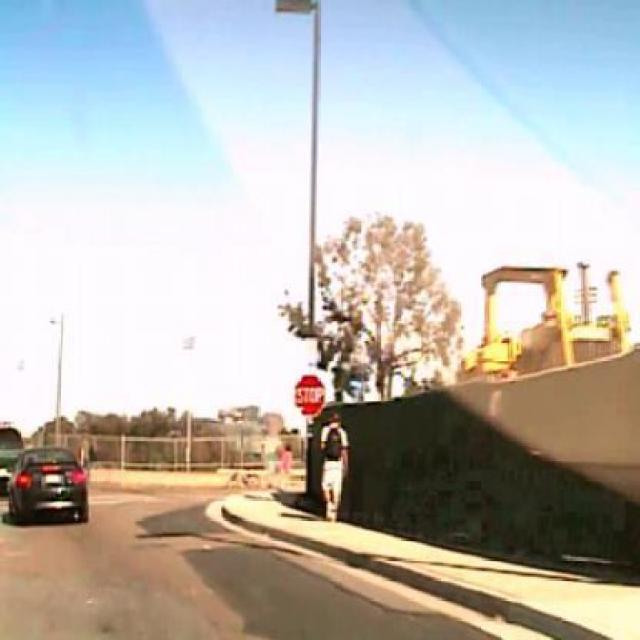Stop: (294, 374, 326, 418)
